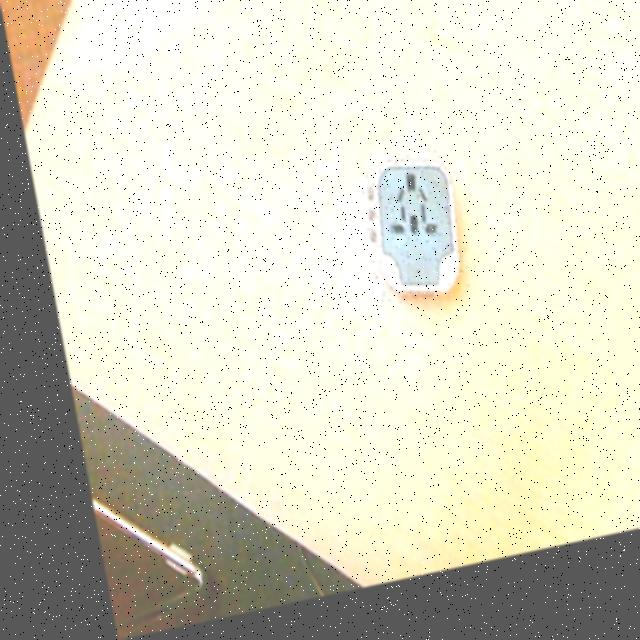adapter: (347, 164, 457, 321)
